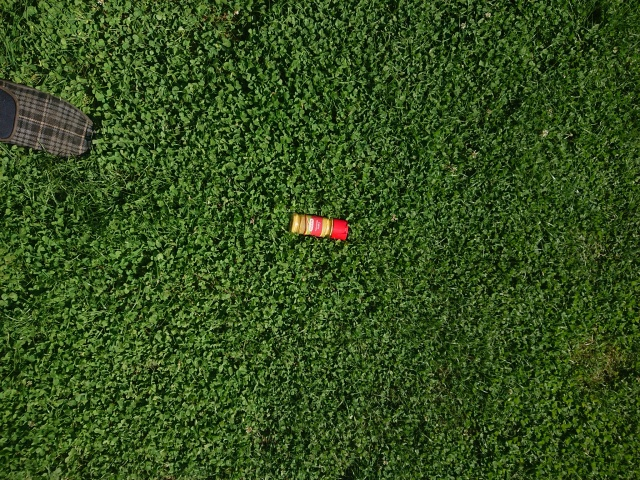Kotanyi Curry Spices Mix 70g: (287, 211, 349, 241)
